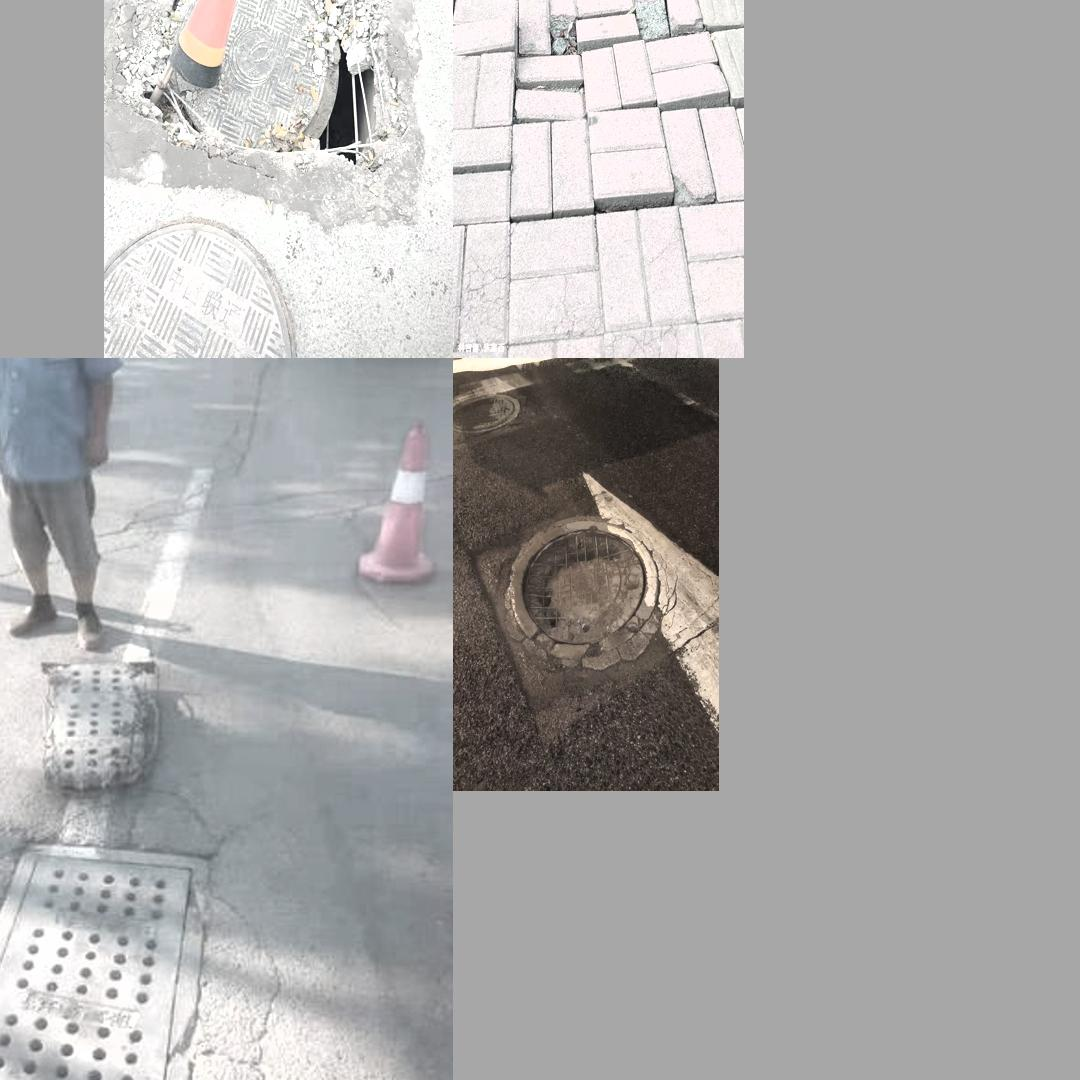circle: (0, 806, 295, 1080), (478, 500, 699, 709), (155, 0, 378, 154), (456, 0, 737, 65)
